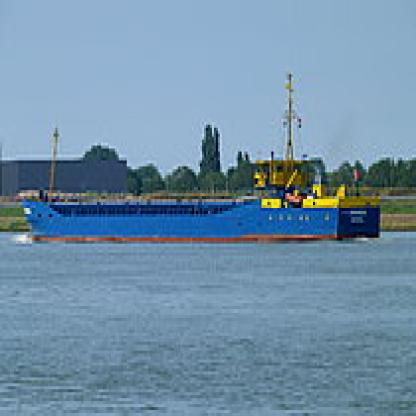Tanker: (20, 130, 396, 252)
